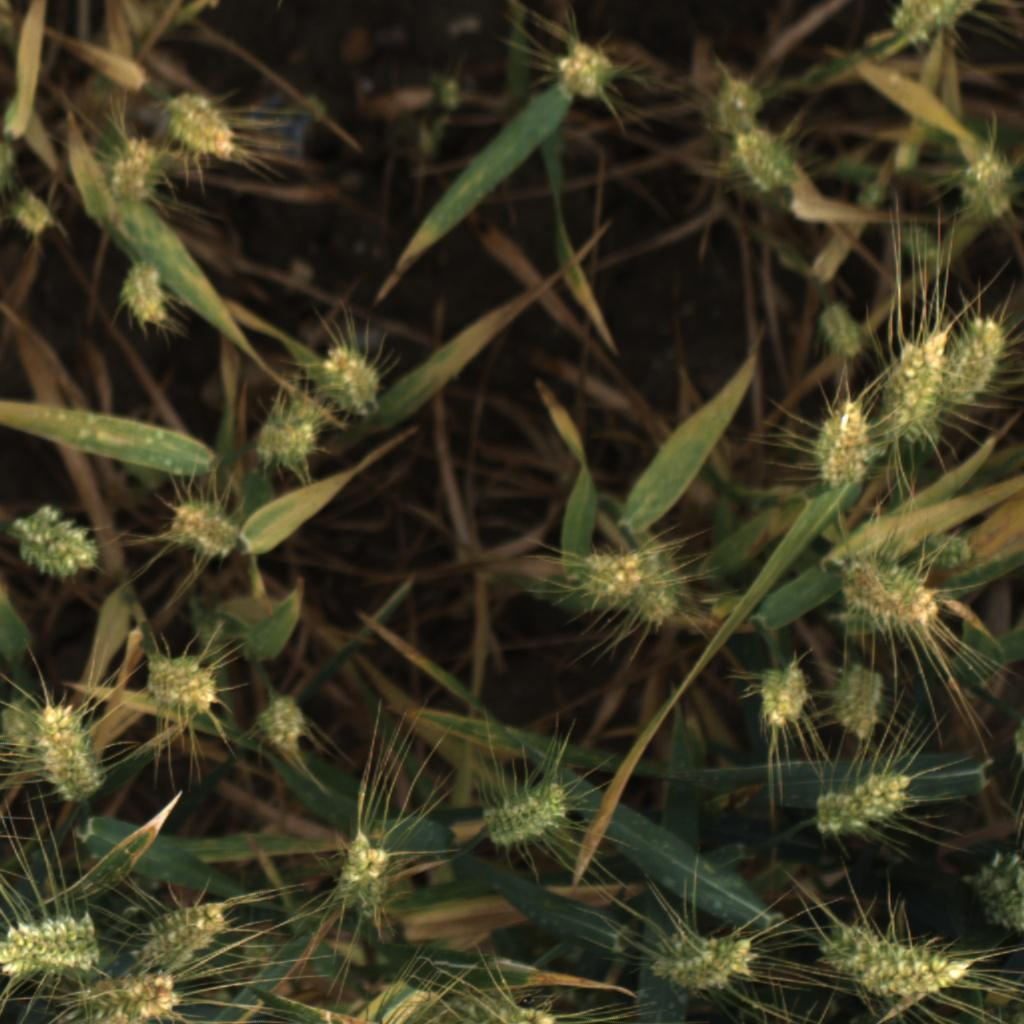0-0: (816, 919, 972, 998), (831, 543, 936, 630), (10, 499, 109, 580), (33, 696, 109, 801), (886, 321, 952, 441), (0, 910, 104, 983), (330, 822, 400, 927), (137, 894, 230, 972), (645, 932, 760, 992), (481, 778, 572, 849), (948, 311, 1016, 406), (811, 399, 876, 496), (162, 91, 239, 171), (70, 971, 184, 1024), (729, 119, 806, 196), (142, 649, 223, 720), (313, 341, 383, 422), (574, 548, 665, 610), (949, 150, 1024, 223), (251, 400, 324, 473), (625, 542, 684, 631), (967, 848, 1024, 938), (424, 986, 558, 1024), (159, 498, 241, 560), (103, 131, 165, 212), (829, 668, 891, 740), (549, 39, 617, 104), (845, 766, 917, 826), (704, 67, 768, 132), (113, 263, 175, 329), (253, 688, 312, 756), (755, 665, 812, 735), (890, 0, 980, 40), (812, 300, 867, 364), (811, 788, 876, 839), (915, 530, 979, 571), (0, 694, 43, 751), (9, 190, 54, 241)
